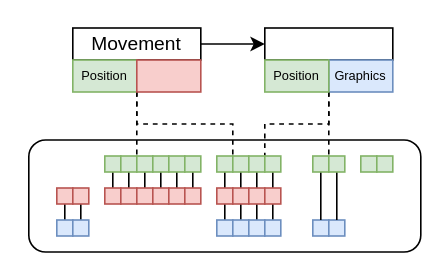
Image size: 448x280. Some labels were removed from this diagram. Each missing label, with the centre of its shape:
"Render" belongs at (328,43).
"Velocity" belongs at (168,75).
